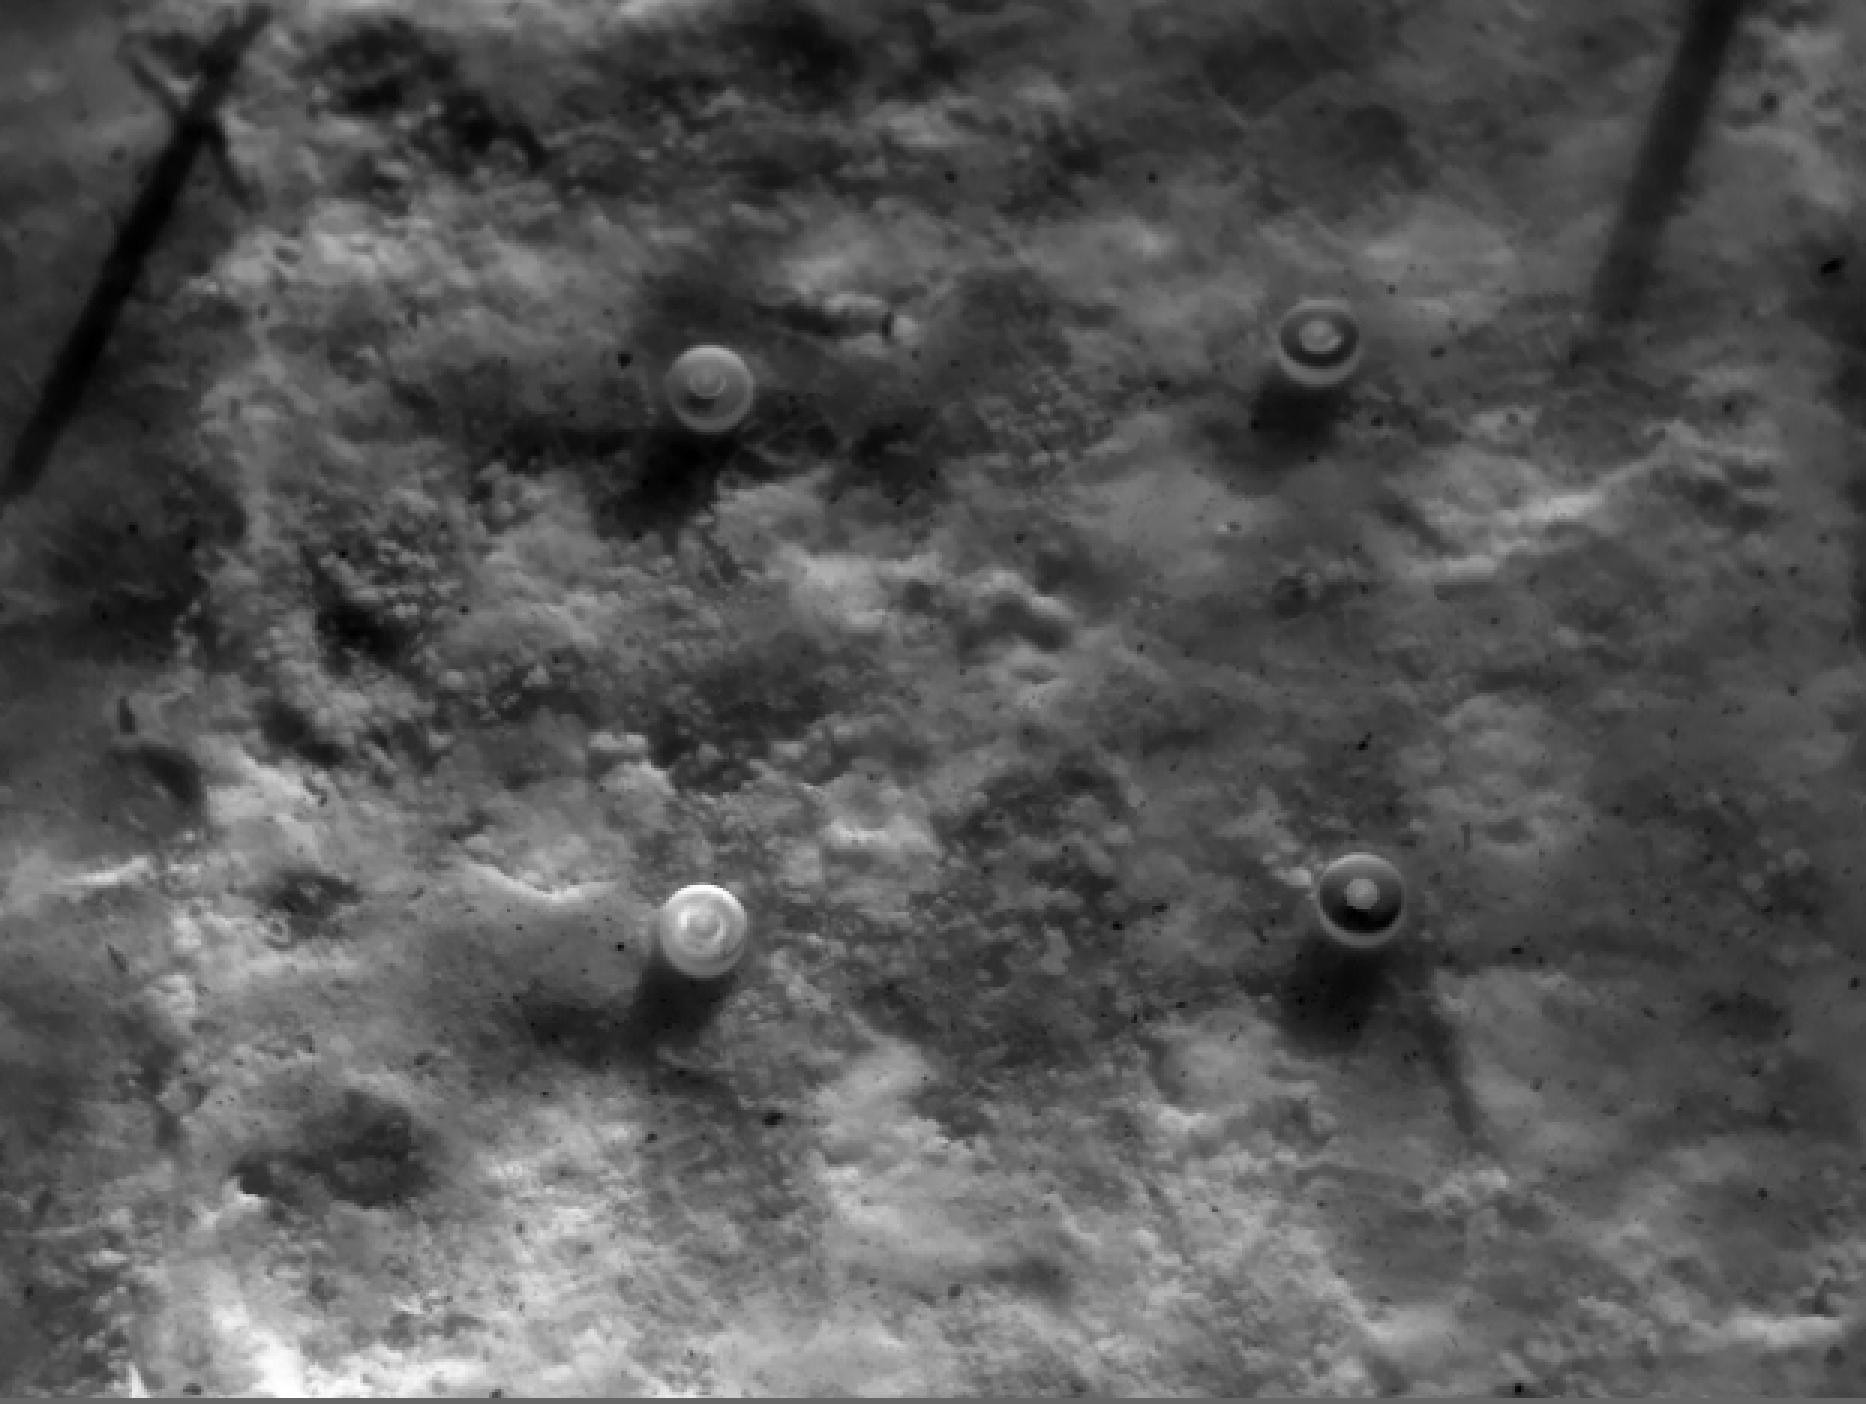mines-gjV8: (1314, 852, 1426, 953), (655, 877, 763, 978), (676, 332, 760, 439), (1274, 302, 1364, 397)
